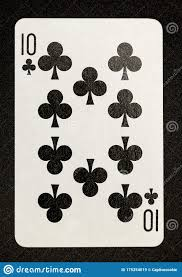ten of clubs: (15, 16, 164, 245)
